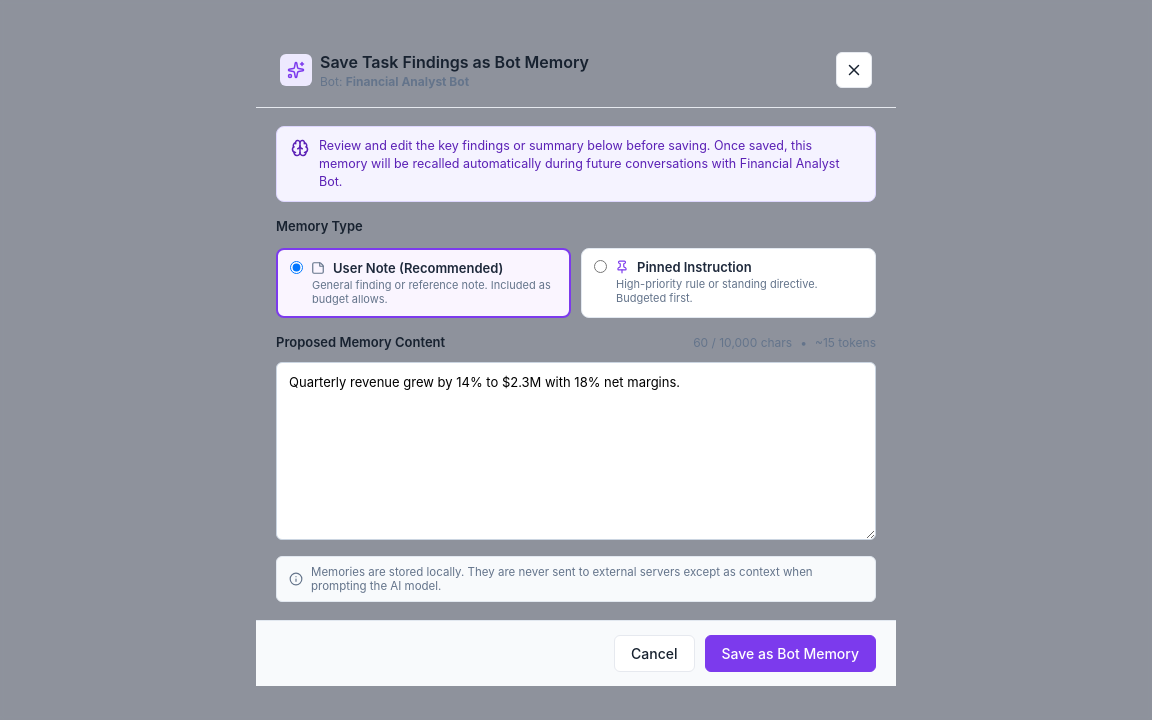
Renderer: TaskSummaryMemoryProposalModal (Phase 9 Step 9.3 Task Summary Workflow) › 3. allows user to edit the proposed content before saving
Replace the text in the text box with test id "textarea-task-summary-content" with "Refined key takeaway: 14% revenue growth in Q3." at (576, 451), box [276,362,876,540]
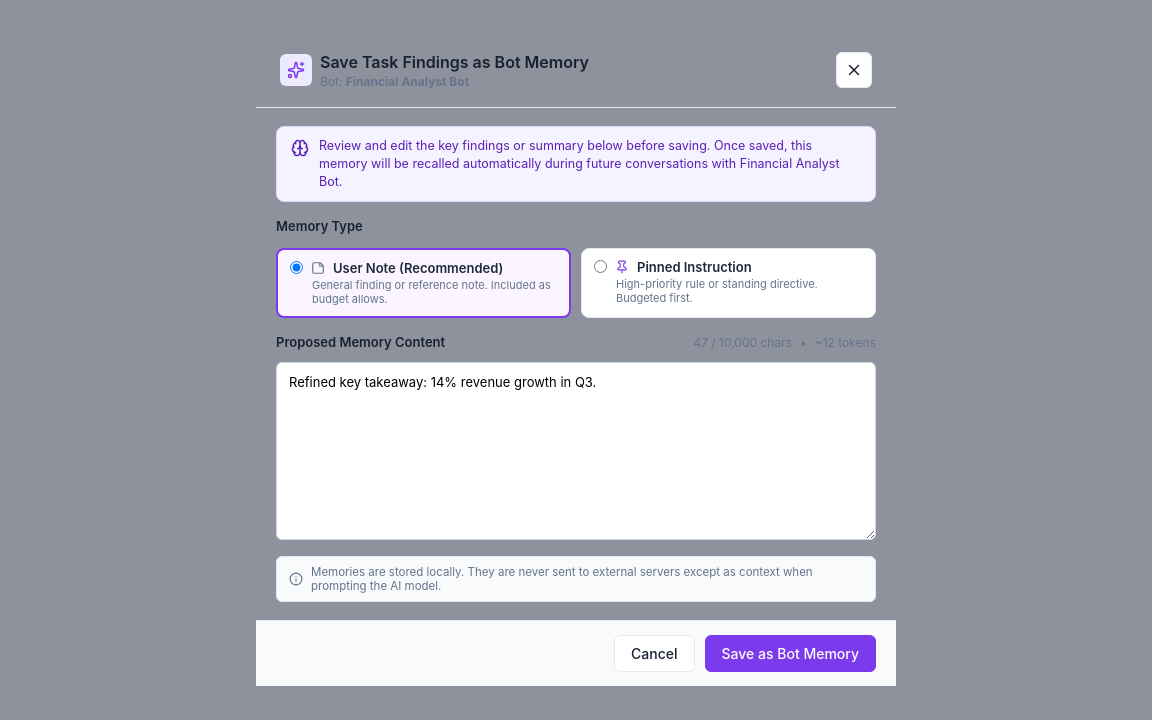
Expected: the text with test id "task-summary-char-counter" reads "47 / 10,000 chars", [693,335,792,350]
